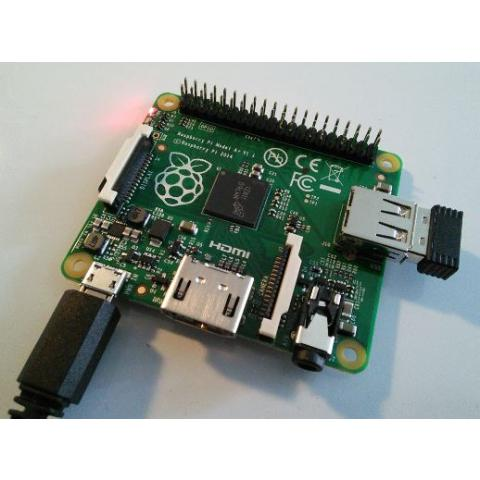Raspberry-Pi-1-Model-A-: (54, 72, 416, 390)
